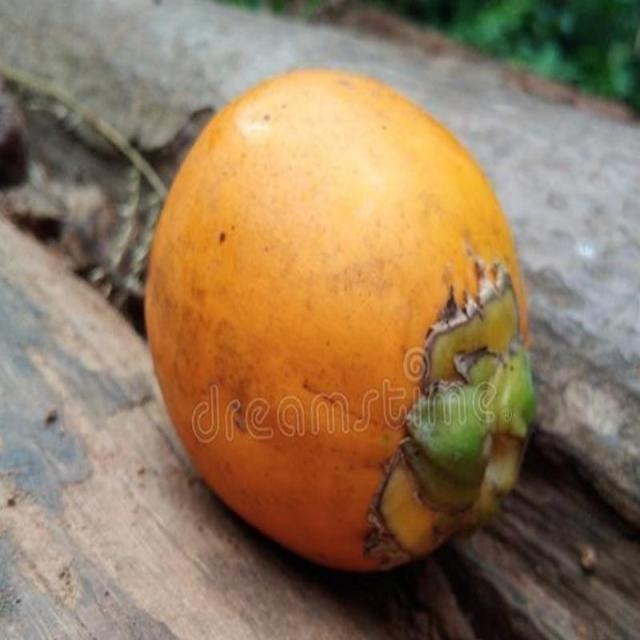good: (143, 69, 538, 577)
